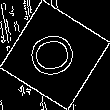O_E: (25, 28, 85, 82)
